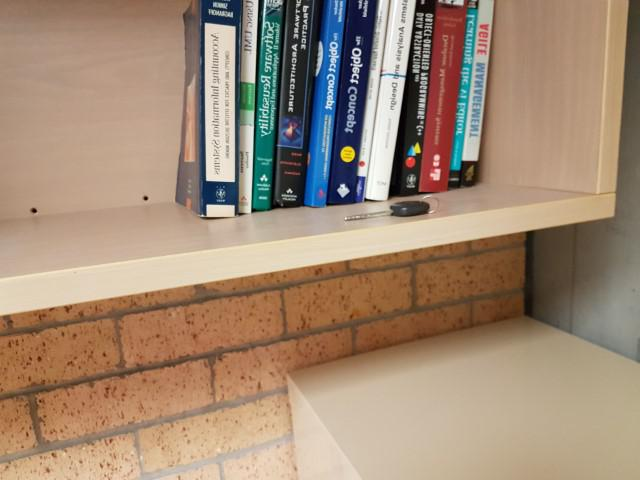key: (344, 200, 429, 222)
